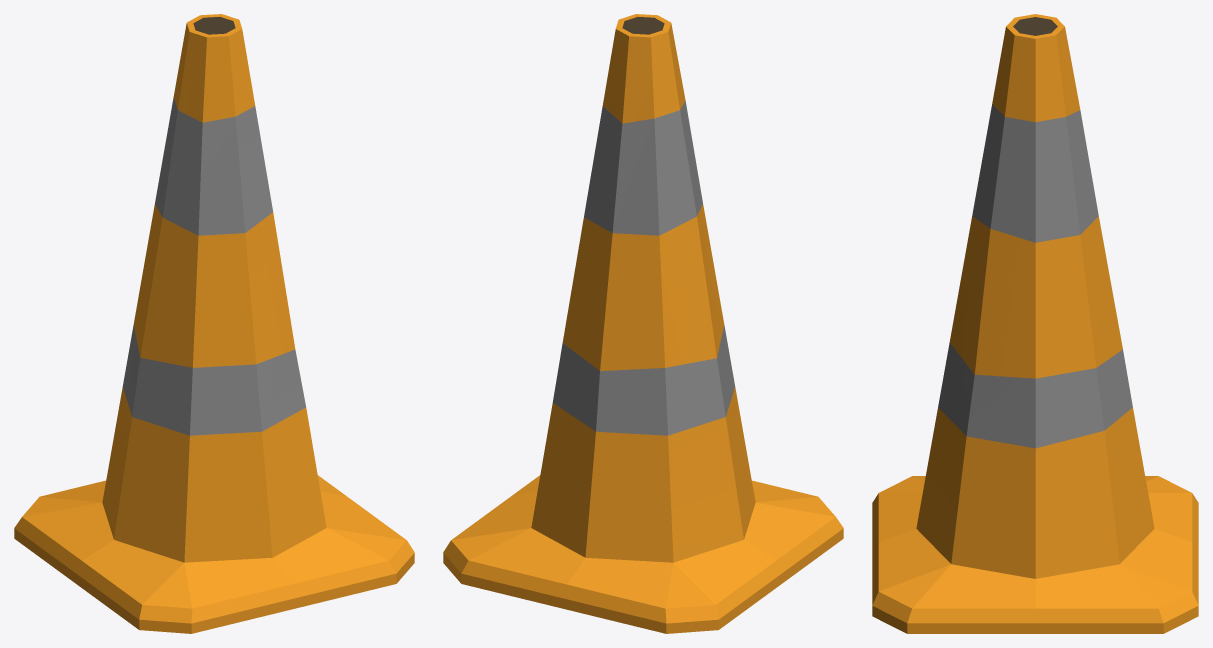
File: SM_Prop_Cone_01.glb
The picture shows the model from 3 angles, left to right: view 1: azimuth 30°, elevation 25°; view 2: azimuth 150°, elevation 25°; view 3: azimuth 270°, elevation 25°; orthographic projection. The views are drawn at different scales.
Parts seen in each view (by area): view 1: SM_Prop_Cone_01; view 2: SM_Prop_Cone_01; view 3: SM_Prop_Cone_01.
Part boxes in pixels (x1,y1,x2,y2): SM_Prop_Cone_01: (14, 14, 414, 633); SM_Prop_Cone_01: (443, 14, 843, 633); SM_Prop_Cone_01: (872, 14, 1198, 633).
Size of the model in its own units: 0.4532 by 0.825 by 0.4532.
Materials: 1 (1 with a texture image).
